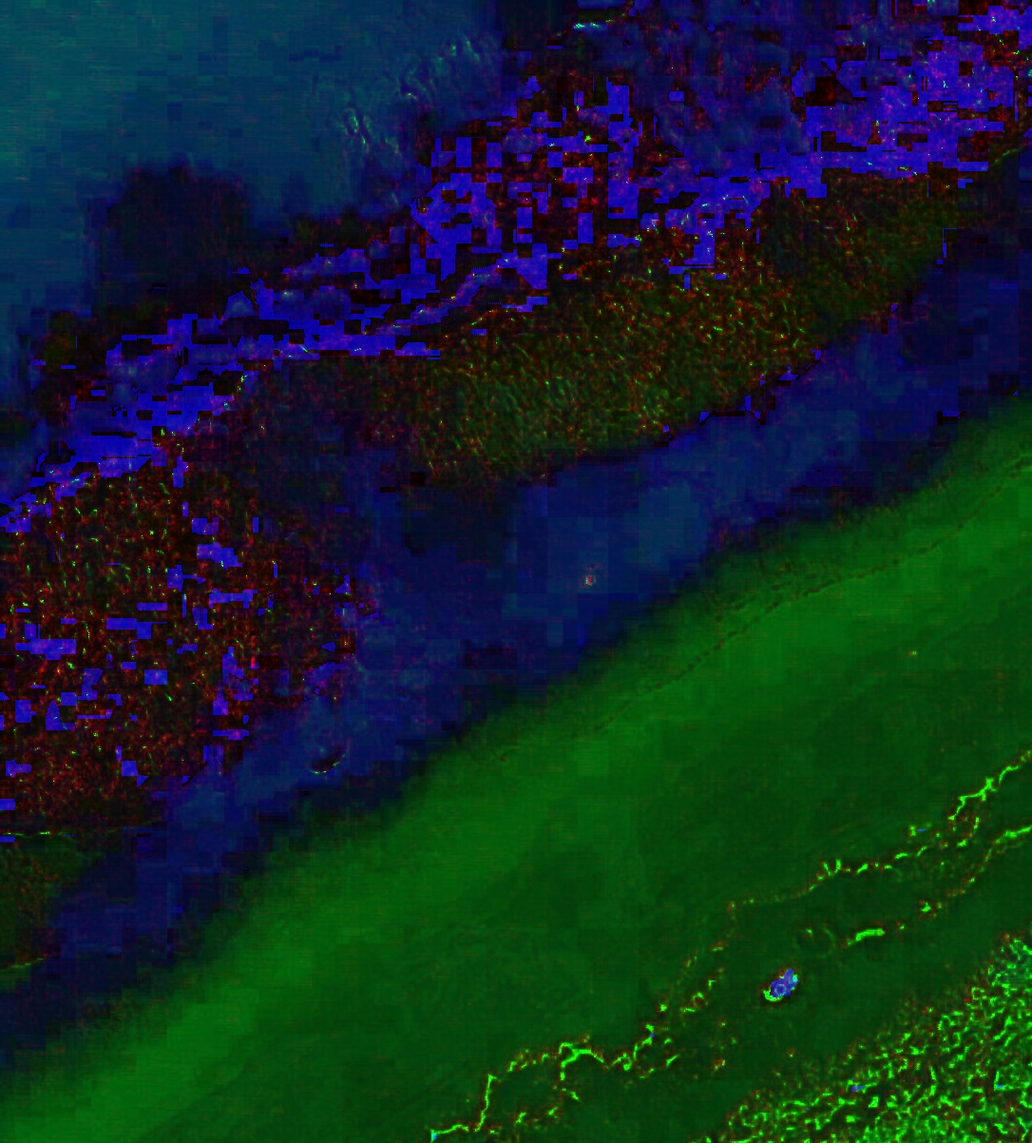rip_current: (82, 175, 522, 630)
